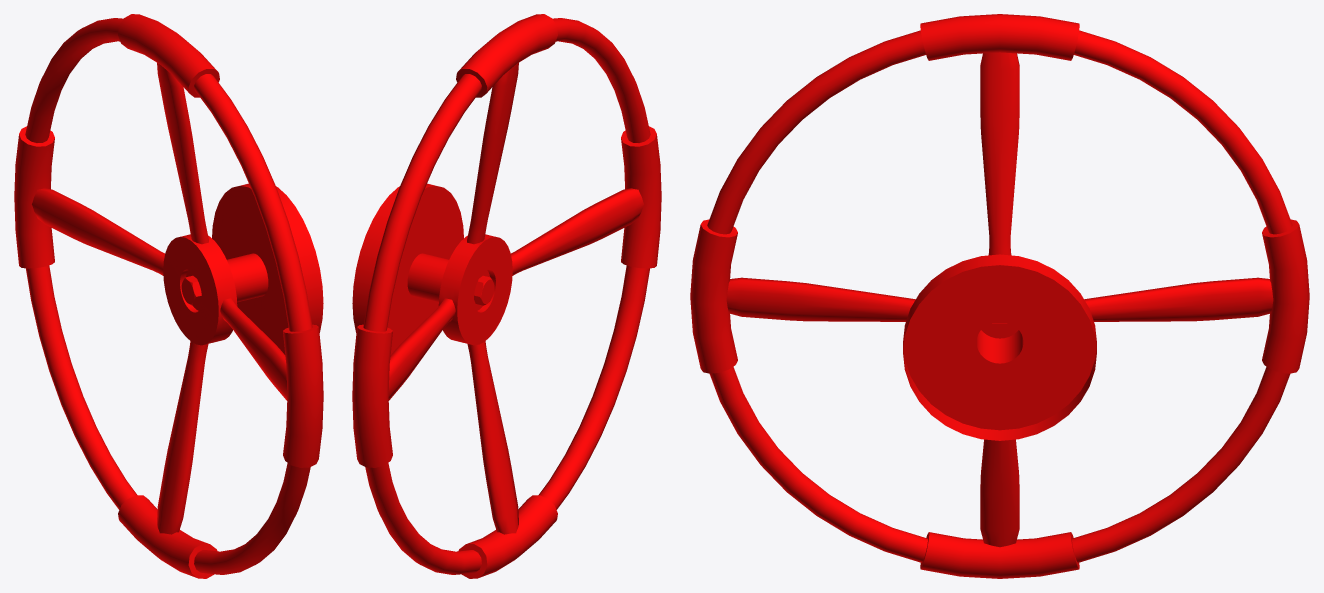
Rendered from Dungeon_Pipe_wheel.FBX.
The picture shows the model from 3 angles, left to right: view 1: azimuth 30°, elevation 25°; view 2: azimuth 150°, elevation 25°; view 3: azimuth 270°, elevation 25°; orthographic projection. The views are drawn at different scales.
Visible parts, largest first — view 1: Wheel, Wheel_base; view 2: Wheel, Wheel_base; view 3: Wheel, Wheel_base.
Boxes of the visible parts, left/top/right/bottom form: Wheel: left=14, top=14, right=323, bottom=578; Wheel_base: left=181, top=183, right=323, bottom=354; Wheel: left=352, top=14, right=661, bottom=578; Wheel_base: left=352, top=183, right=494, bottom=354; Wheel: left=690, top=14, right=1309, bottom=578; Wheel_base: left=903, top=254, right=1096, bottom=440.
Bounding box in the file's own units: 11.85 × 47.98 × 47.98.
